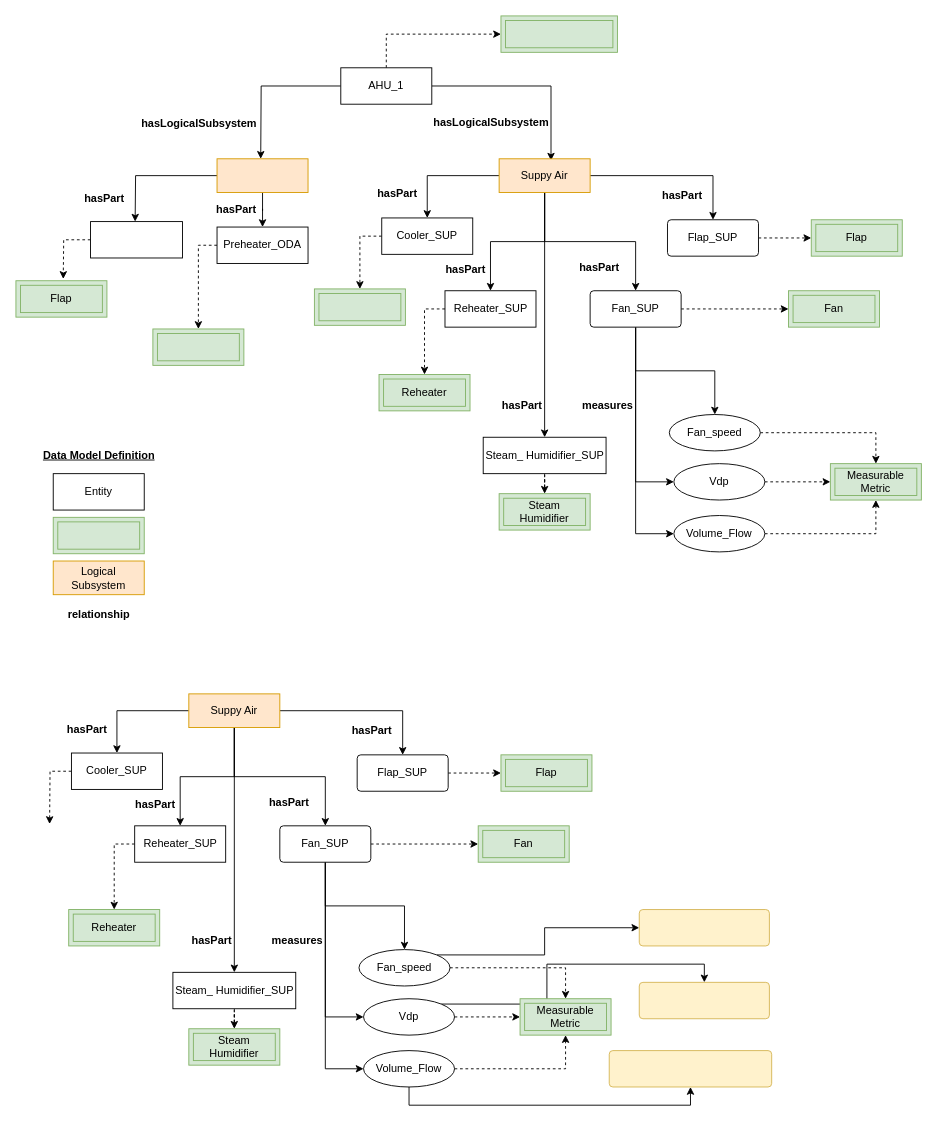
This 937x1128 diagram has some shape labels left out. The shapes that lost their labels are listed below. From the top down, each one's centre as x and y in pixels, then its label:
point 558,33: Air Handling Unit
point 262,175: Outdoor Air
point 136,239: Flap_ODA
point 359,306: Cooler
point 198,346: Preheater
point 98,535: Class
point 703,927: fAHUFlapSUPActADS
point 703,1000: fAHUFanSUPVdpActADS
point 690,1068: fAHUFanSUPVolFlowActADS
